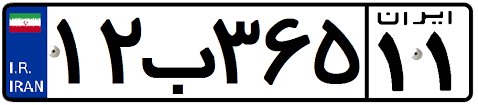character: (133, 44, 217, 96), (213, 7, 264, 91), (93, 9, 143, 91), (311, 10, 362, 87), (263, 15, 313, 90), (53, 13, 95, 90), (422, 27, 459, 95), (374, 30, 412, 96)
